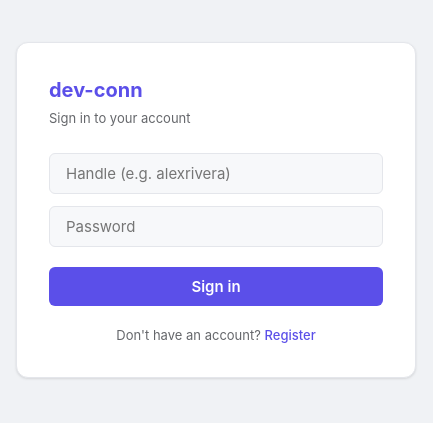
Test: AuthPage › starts in login mode; no name field until you switch to register
Expected: the button "Sign in" is shown, [49,266,383,306]
Expected: the field with placeholder "full name" is not shown
Click the button "Register".
click(290, 334)  # box [264,326,316,342]
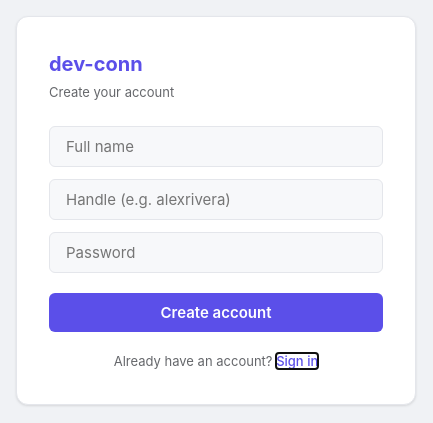
Expected: the field with placeholder "Full name" is shown, [49,126,383,167]
